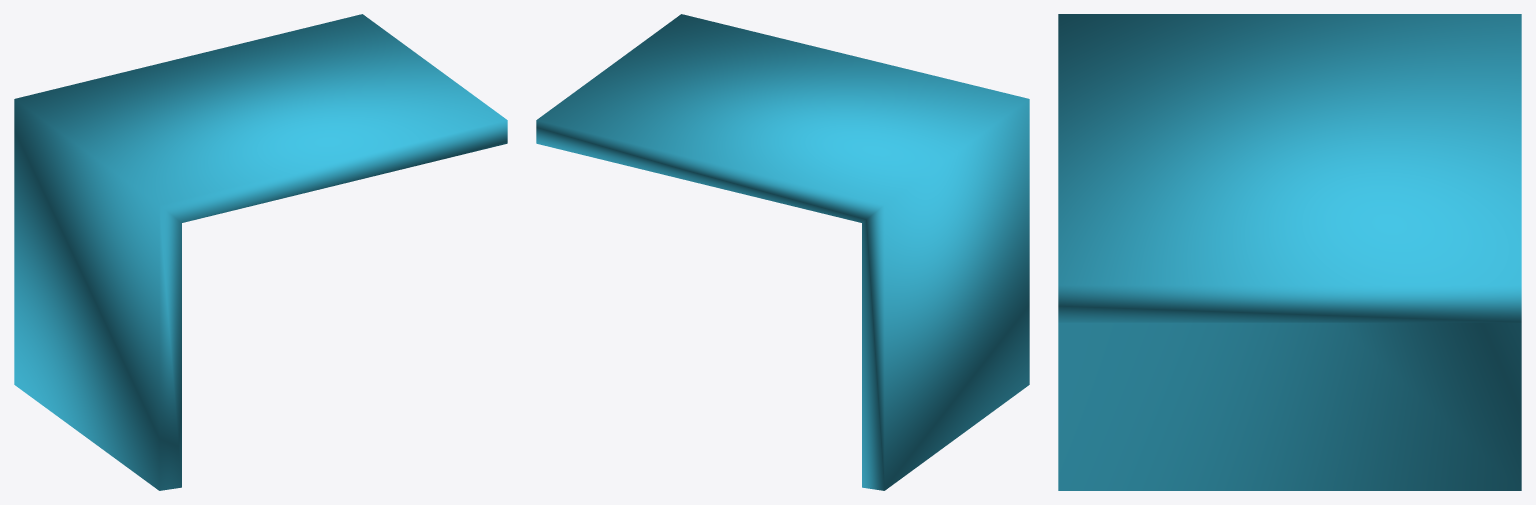
The model's file is glass9.fbx.
3 renders of one model, left to right at view 1: azimuth 30°, elevation 25°; view 2: azimuth 150°, elevation 25°; view 3: azimuth 270°, elevation 25°, orthographic. The views are drawn at different scales.
Visible parts, largest first — view 1: Plane_002; view 2: Plane_002; view 3: Plane_002.
Part boxes in pixels (x1,y1,x2,y2): Plane_002: (14, 14, 507, 490); Plane_002: (536, 14, 1029, 490); Plane_002: (1058, 14, 1521, 490).
Bounding box in the file's own units: 6.37 × 5.04 × 4.6.
Materials: 1 (1 with a texture image).
